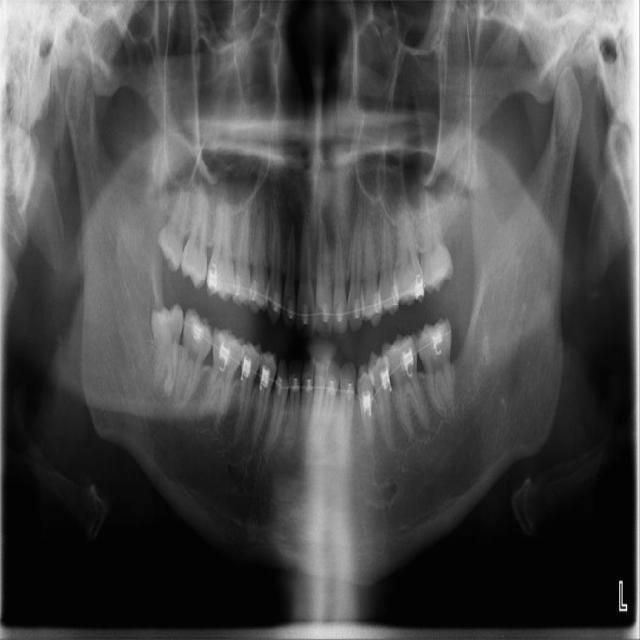impacted tooth: (149, 303, 184, 397)
